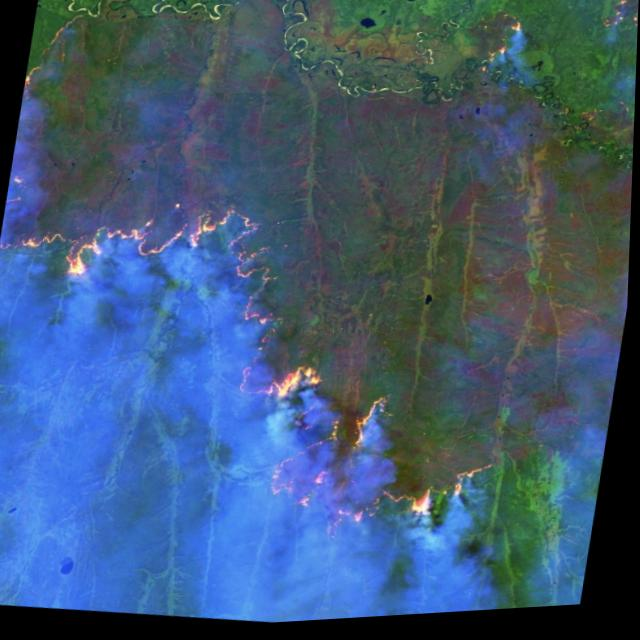fire: (198, 346, 525, 576), (0, 173, 302, 357), (454, 5, 539, 86), (578, 2, 639, 66)
